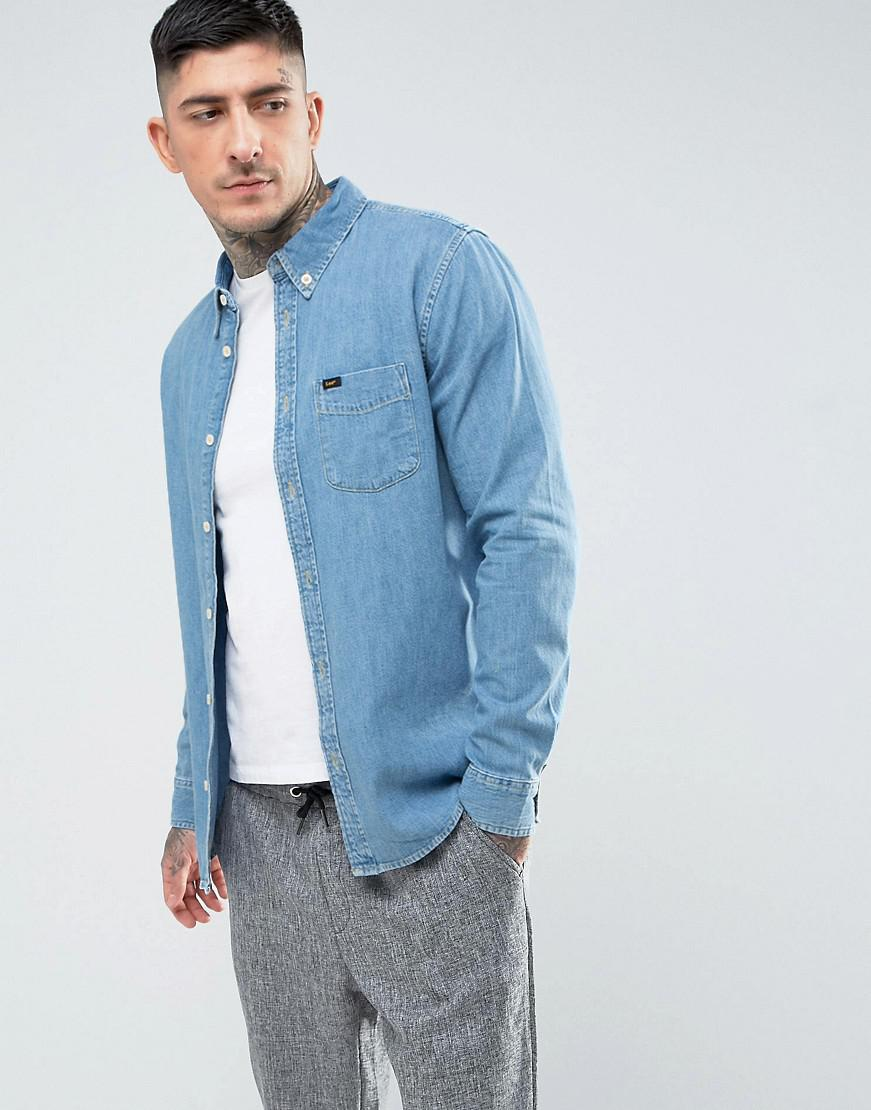teeshirt: (129, 178, 586, 840)
